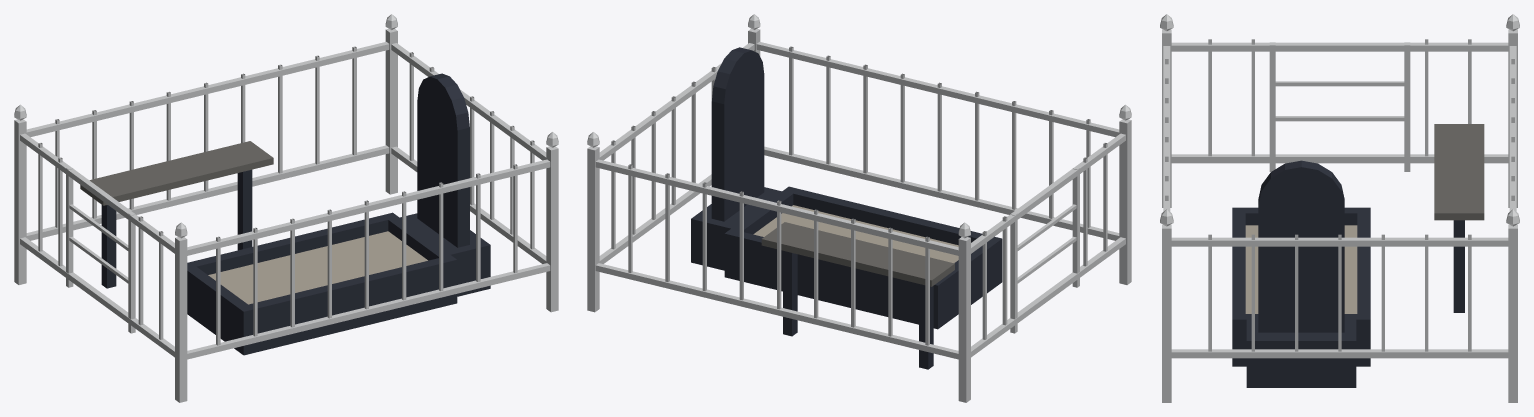
Rendered from SM_Cem_PlotStela.glb.
The picture shows the model from 3 angles, left to right: view 1: azimuth 30°, elevation 25°; view 2: azimuth 150°, elevation 25°; view 3: azimuth 270°, elevation 25°; orthographic projection. The views are drawn at different scales.
Parts seen in each view (by area): view 1: SM_Cem_PlotStela; view 2: SM_Cem_PlotStela; view 3: SM_Cem_PlotStela.
Part boxes in pixels (x1,y1,x2,y2): SM_Cem_PlotStela: [14, 14, 558, 402]; SM_Cem_PlotStela: [587, 14, 1131, 402]; SM_Cem_PlotStela: [1160, 14, 1519, 402].
Size of the model in its own units: 2.48 by 1.22 by 1.87.
